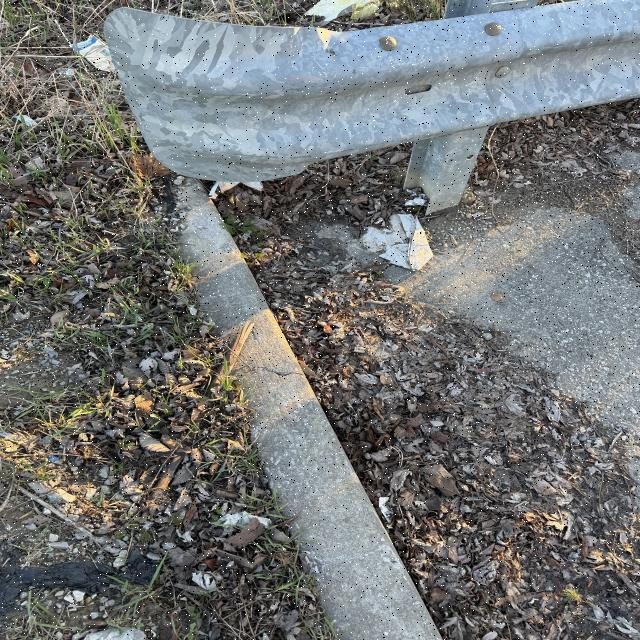Guard rail: (133, 8, 640, 182)
